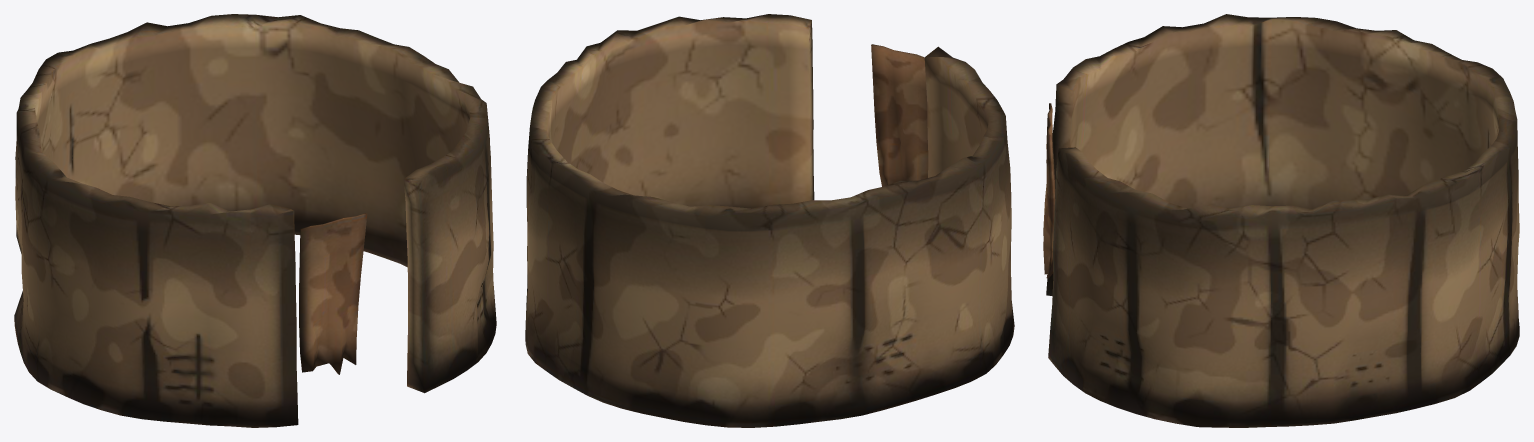
The model's file is hut_daub.gltf.
The picture shows the model from 3 angles, left to right: view 1: azimuth 30°, elevation 25°; view 2: azimuth 150°, elevation 25°; view 3: azimuth 270°, elevation 25°; orthographic projection.
Parts seen in each view (by area): view 1: hut_daub; view 2: hut_daub; view 3: hut_daub.
Part boxes in pixels (x1=…): hut_daub: x1=14, y1=14, x2=496, y2=427; hut_daub: x1=525, y1=14, x2=1014, y2=427; hut_daub: x1=1043, y1=14, x2=1519, y2=427.
Bounding box in the file's own units: 3.33 × 1.6 × 3.25.
2 materials, 2 textured.
